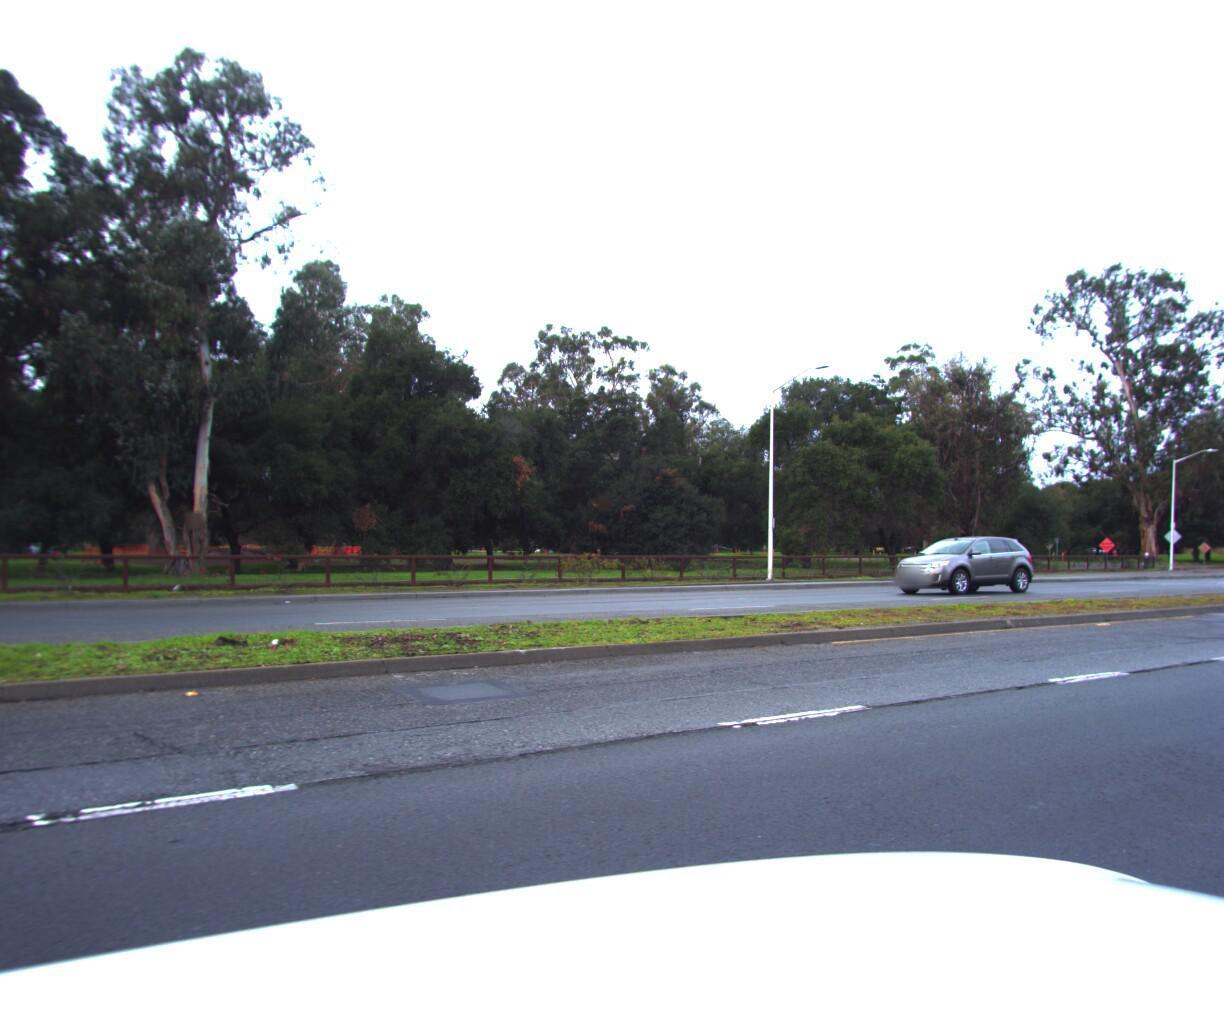car: (883, 530, 1034, 599)
